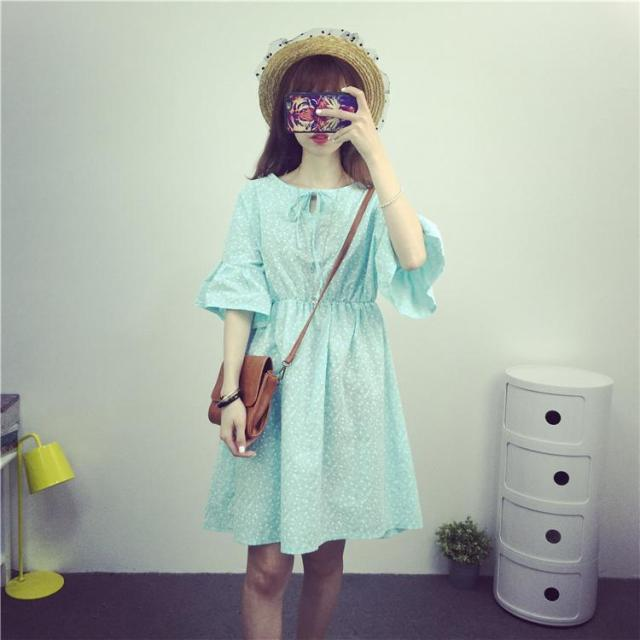short-sleeve-dress: (175, 127, 471, 543)
